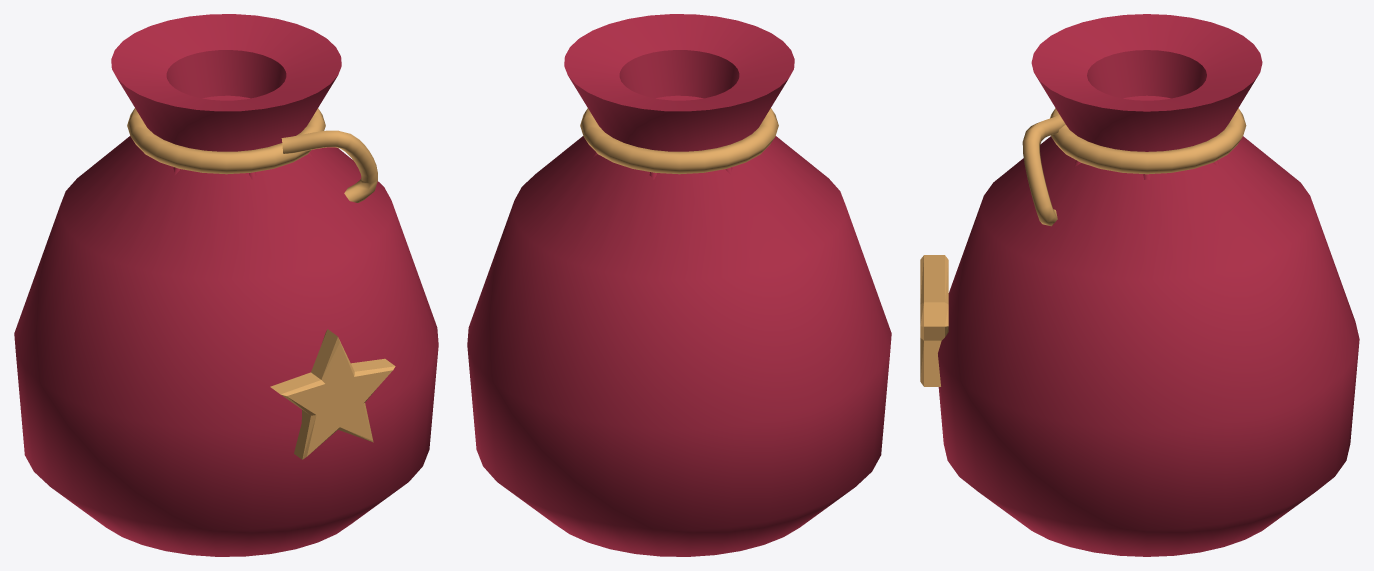
The model's file is storybook-christmas-market-santa-toy-sack-584c9f0a__19717.glb.
The picture shows the model from 3 angles, left to right: view 1: azimuth 30°, elevation 25°; view 2: azimuth 150°, elevation 25°; view 3: azimuth 270°, elevation 25°; orthographic projection.
Parts seen in each view (by area): view 1: santa-toy-sack; view 2: santa-toy-sack; view 3: santa-toy-sack.
Part boxes in pixels (x1=…): santa-toy-sack: x1=14, y1=14, x2=438, y2=556; santa-toy-sack: x1=467, y1=14, x2=891, y2=556; santa-toy-sack: x1=920, y1=14, x2=1359, y2=556.
Bounding box in the file's own units: 0.92 × 1.04 × 0.9505.
